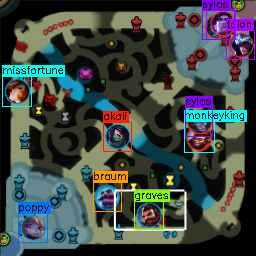akali: (104, 124, 129, 148)
braum: (94, 184, 120, 211)
graves: (135, 202, 161, 227)
missfortune: (5, 79, 29, 103)
monkeyking: (186, 128, 211, 151)
poppy: (20, 215, 45, 240)
sylas: (187, 109, 212, 134)
talon: (229, 32, 253, 57)
taric: (210, 10, 235, 36)
